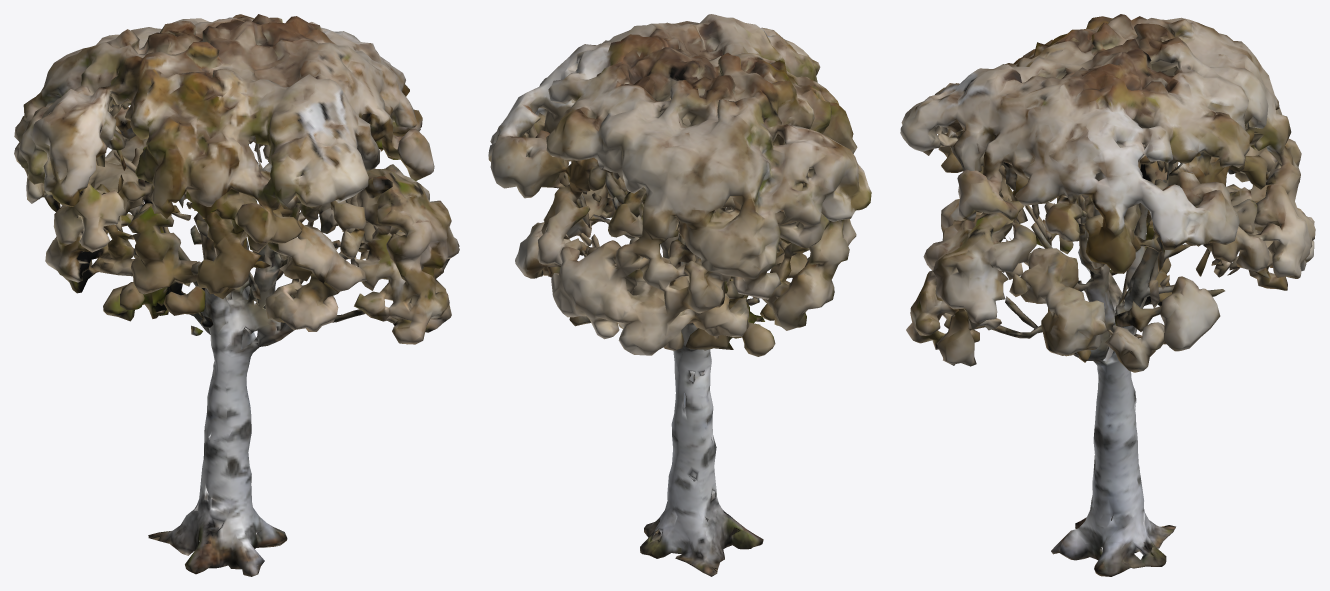
File: AI_PaperBirch04.fbx
3 views of the same model, side by side, from view 1: azimuth 30°, elevation 25°; view 2: azimuth 150°, elevation 25°; view 3: azimuth 270°, elevation 25° (orthographic). The views are drawn at different scales.
Visible parts, largest first — view 1: Mesh1.0; view 2: Mesh1.0; view 3: Mesh1.0.
Part boxes in pixels (bbox=[...]): Mesh1.0: bbox=[14, 14, 459, 576]; Mesh1.0: bbox=[488, 14, 871, 576]; Mesh1.0: bbox=[900, 14, 1315, 576].
Bounding box in the file's own units: 146 × 201 × 147.
1 material, 1 textured.
